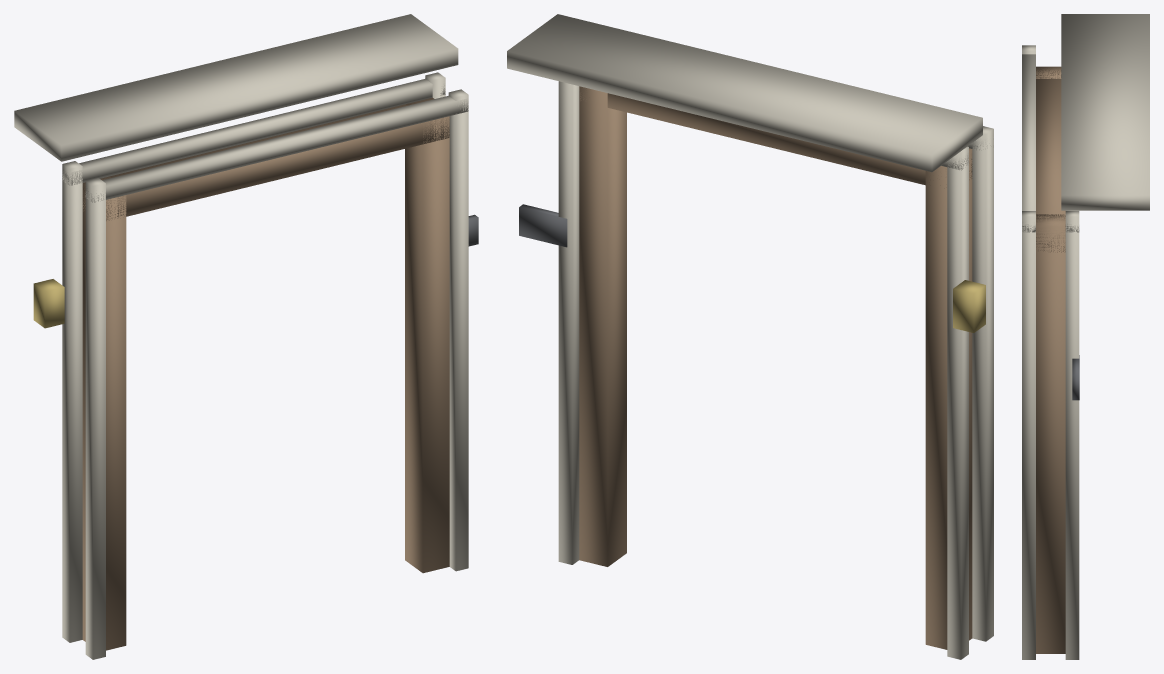
File: doorway_motel_w152_h210_d16.glb
The picture shows the model from 3 angles, left to right: view 1: azimuth 30°, elevation 25°; view 2: azimuth 150°, elevation 25°; view 3: azimuth 270°, elevation 25°; orthographic projection. The views are drawn at different scales.
Parts seen in each view (by area): view 1: world; view 2: world; view 3: world.
Boxes of the visible parts, bbox=[...] form: world: bbox=[14, 14, 478, 659]; world: bbox=[507, 14, 993, 659]; world: bbox=[1022, 14, 1149, 659].
Size of the model in its own units: 2.22 by 2.46 by 0.6058.
